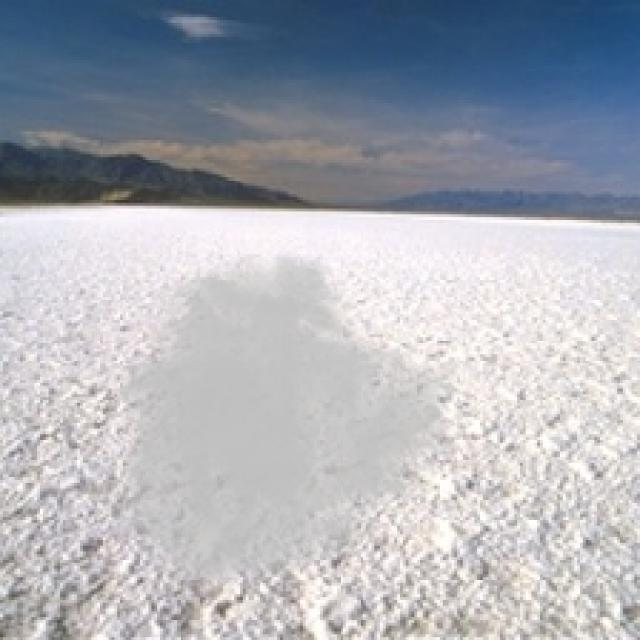smoke: (100, 249, 469, 594)
